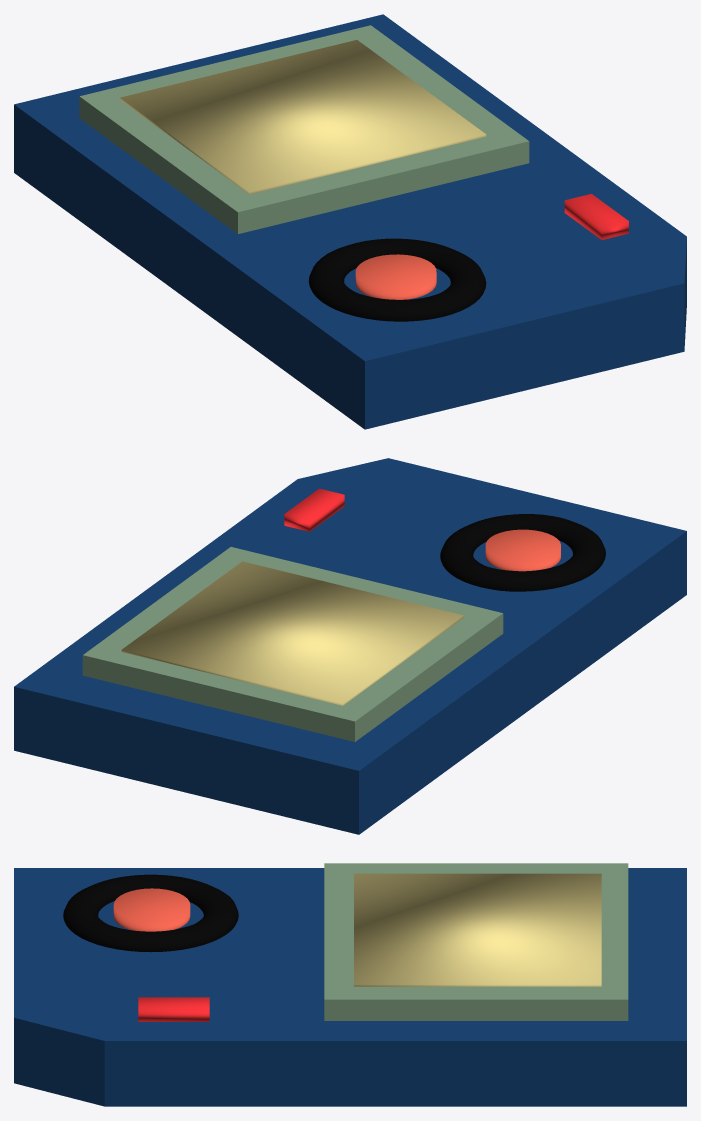
Rendered from hamburger.glb.
3 views of the same model, one above another, from view 1: azimuth 30°, elevation 25°; view 2: azimuth 150°, elevation 25°; view 3: azimuth 270°, elevation 25° (orthographic). The views are drawn at different scales.
Parts seen in each view (by area): view 1: Plane, Plane.001, Cube, Torus, Cylinder, Cube.001; view 2: Plane, Plane.001, Cube, Torus, Cylinder, Cube.001; view 3: Plane, Plane.001, Cube, Torus, Cylinder, Cube.001.
Part boxes in pixels (x1,y1,x2,y2): Plane: (14, 14, 686, 429); Plane.001: (120, 40, 486, 194); Cube: (79, 25, 529, 233); Torus: (308, 238, 486, 321); Cylinder: (355, 254, 436, 299); Cube.001: (564, 194, 628, 239); Plane: (14, 458, 686, 834); Plane.001: (121, 561, 463, 705); Cube: (82, 547, 503, 741); Torus: (440, 514, 605, 591); Cylinder: (485, 529, 560, 571); Cube.001: (284, 488, 344, 531); Plane: (14, 868, 686, 1106); Plane.001: (354, 873, 601, 986); Cube: (324, 863, 628, 1020); Torus: (63, 874, 238, 952); Cylinder: (113, 888, 190, 931); Cube.001: (138, 997, 209, 1021).
Size of the model in its own units: 1.66 by 0.3976 by 2.73.
